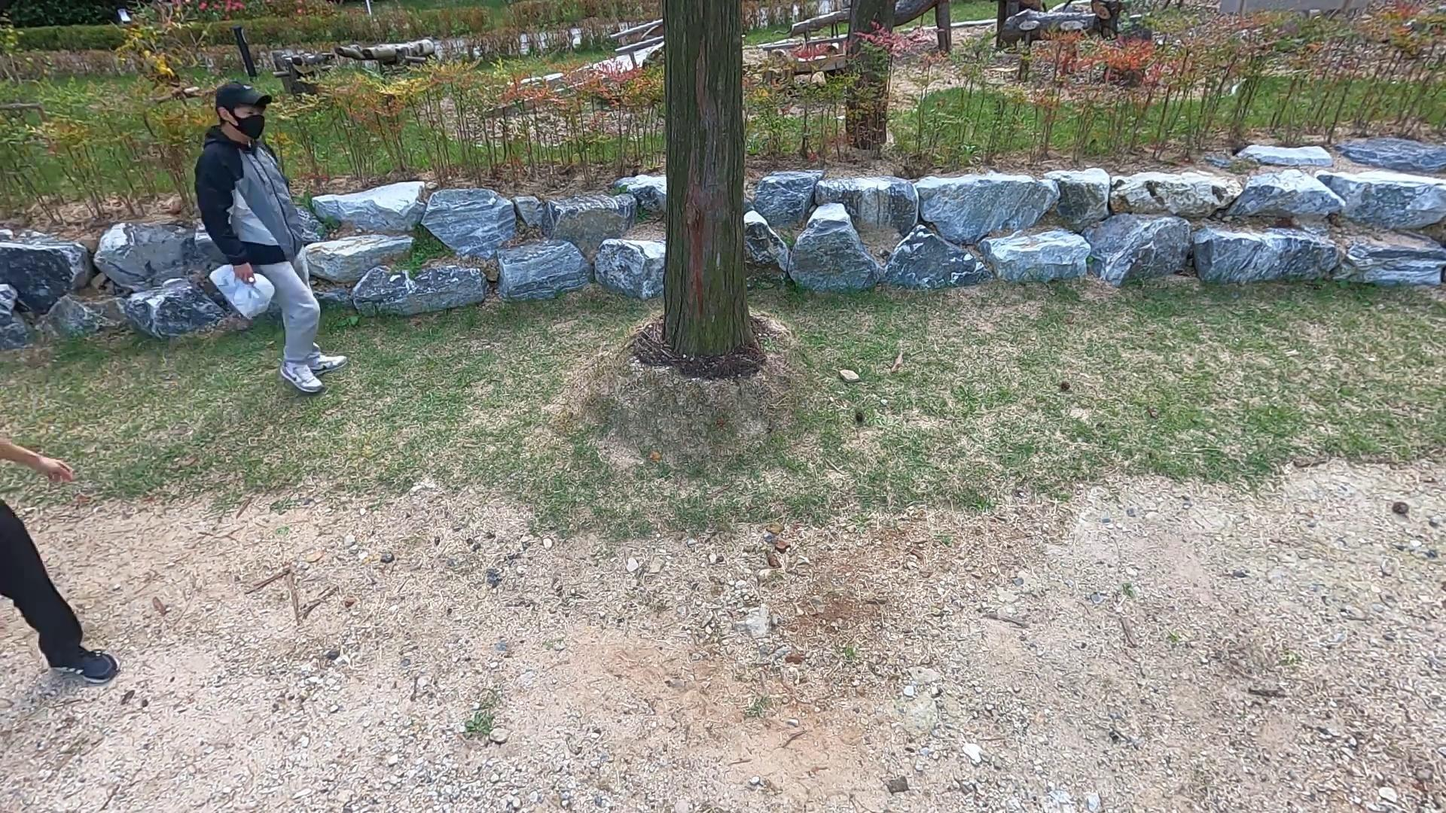person: (196, 75, 348, 399), (0, 407, 125, 692)
trash: (203, 258, 276, 323)
